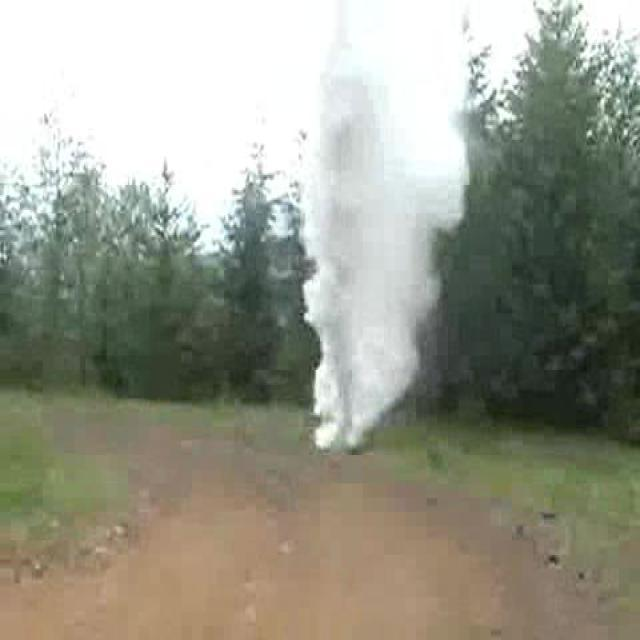Smoke: (308, 56, 450, 444)
